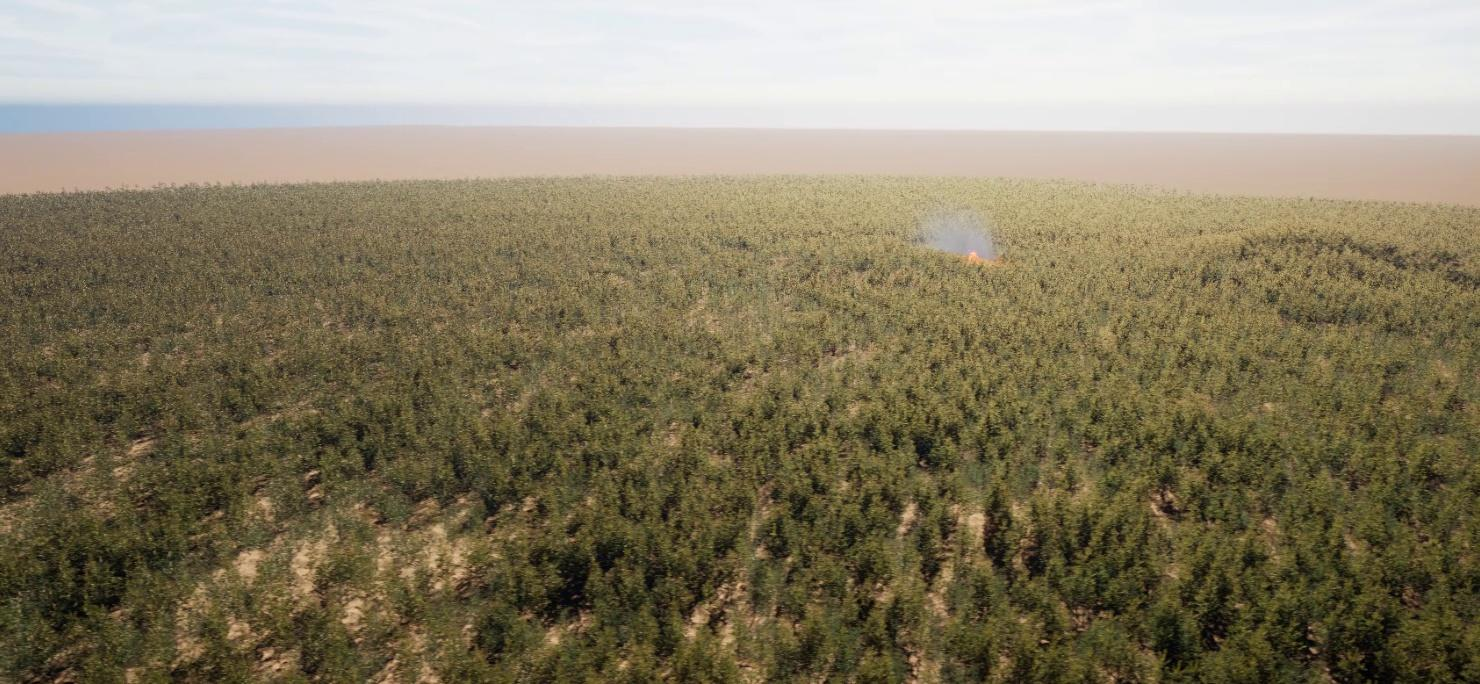fire: (965, 246, 994, 265)
smoke: (919, 214, 1009, 270)
